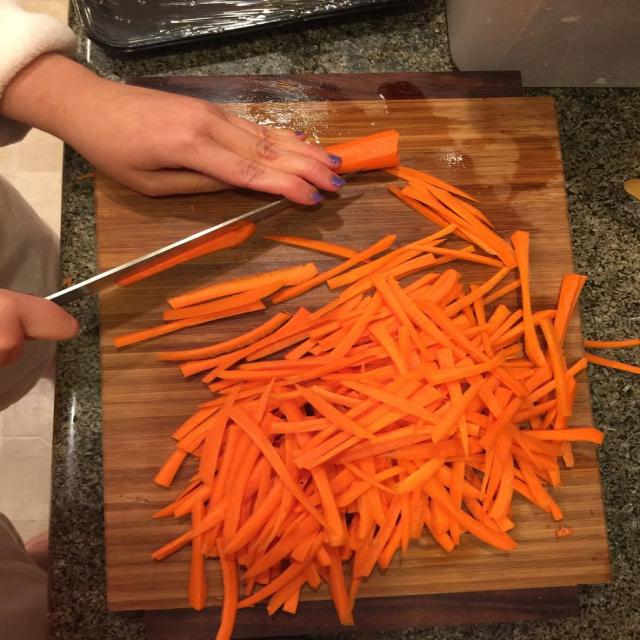carrot: (154, 174, 602, 637), (231, 406, 325, 524), (118, 222, 255, 286), (272, 235, 395, 303), (114, 302, 265, 348), (168, 263, 317, 309), (159, 312, 290, 360), (163, 281, 282, 320), (512, 231, 545, 366), (385, 166, 477, 201), (325, 130, 399, 172), (540, 320, 572, 416), (265, 235, 358, 259), (216, 543, 239, 639), (554, 275, 586, 343), (188, 534, 206, 610), (527, 428, 603, 444), (154, 449, 186, 487), (586, 353, 639, 374), (485, 279, 521, 305), (583, 339, 640, 349), (556, 527, 572, 538), (76, 172, 94, 180)
